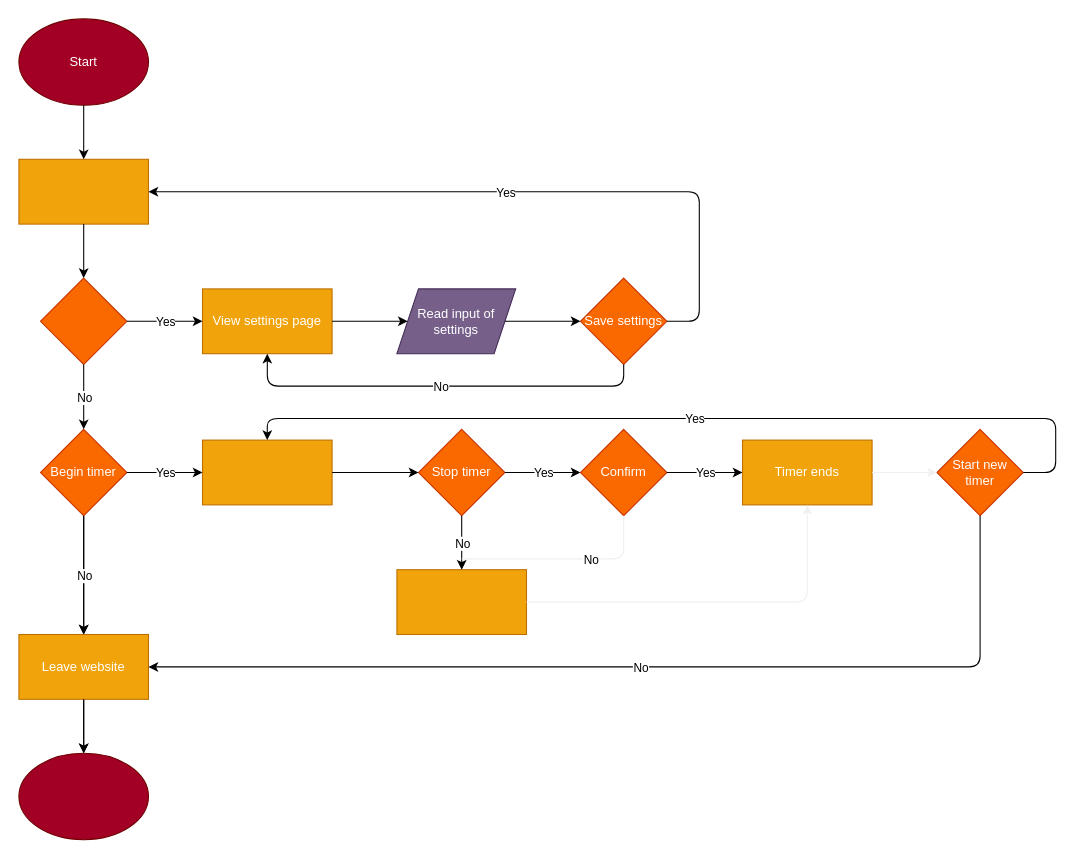
This 1083x859 diagram has some shape labels left out. The centre of each missing label's shape, as x and y in pixels:
Change settings: [83,320]
End: [83,796]
Timer begins: [266,472]
Timer runs out: [461,601]
User enters website: [83,191]
